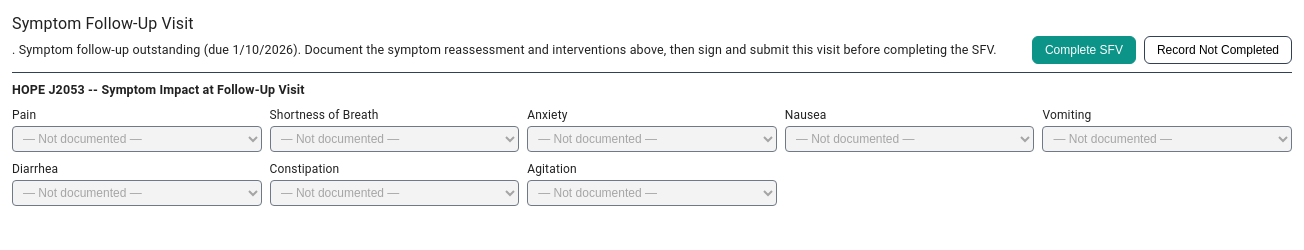
SymptomFollowUpVisitSection › surfaces the SAME_VISIT_NOT_ALLOWED error without marking the SFV completed in the UI
This screenshot has width=1304, height=250.
Click the button "Complete SFV" at (1084, 50), box [1032,36,1136,64]
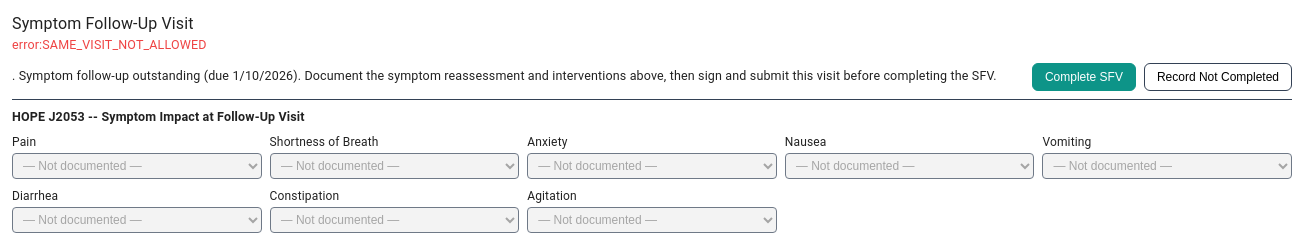
Check: the text "error:SAME_VISIT_NOT_ALLOWED" is shown, box [12,37,207,52]
